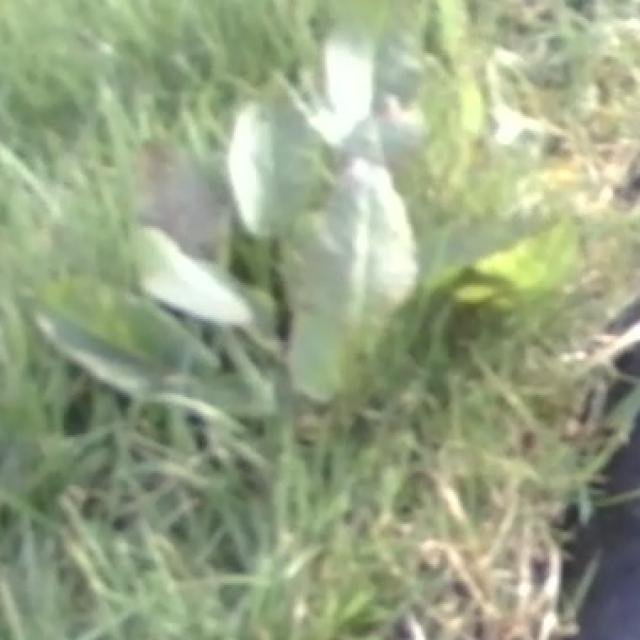organic waste: (62, 28, 610, 454)
